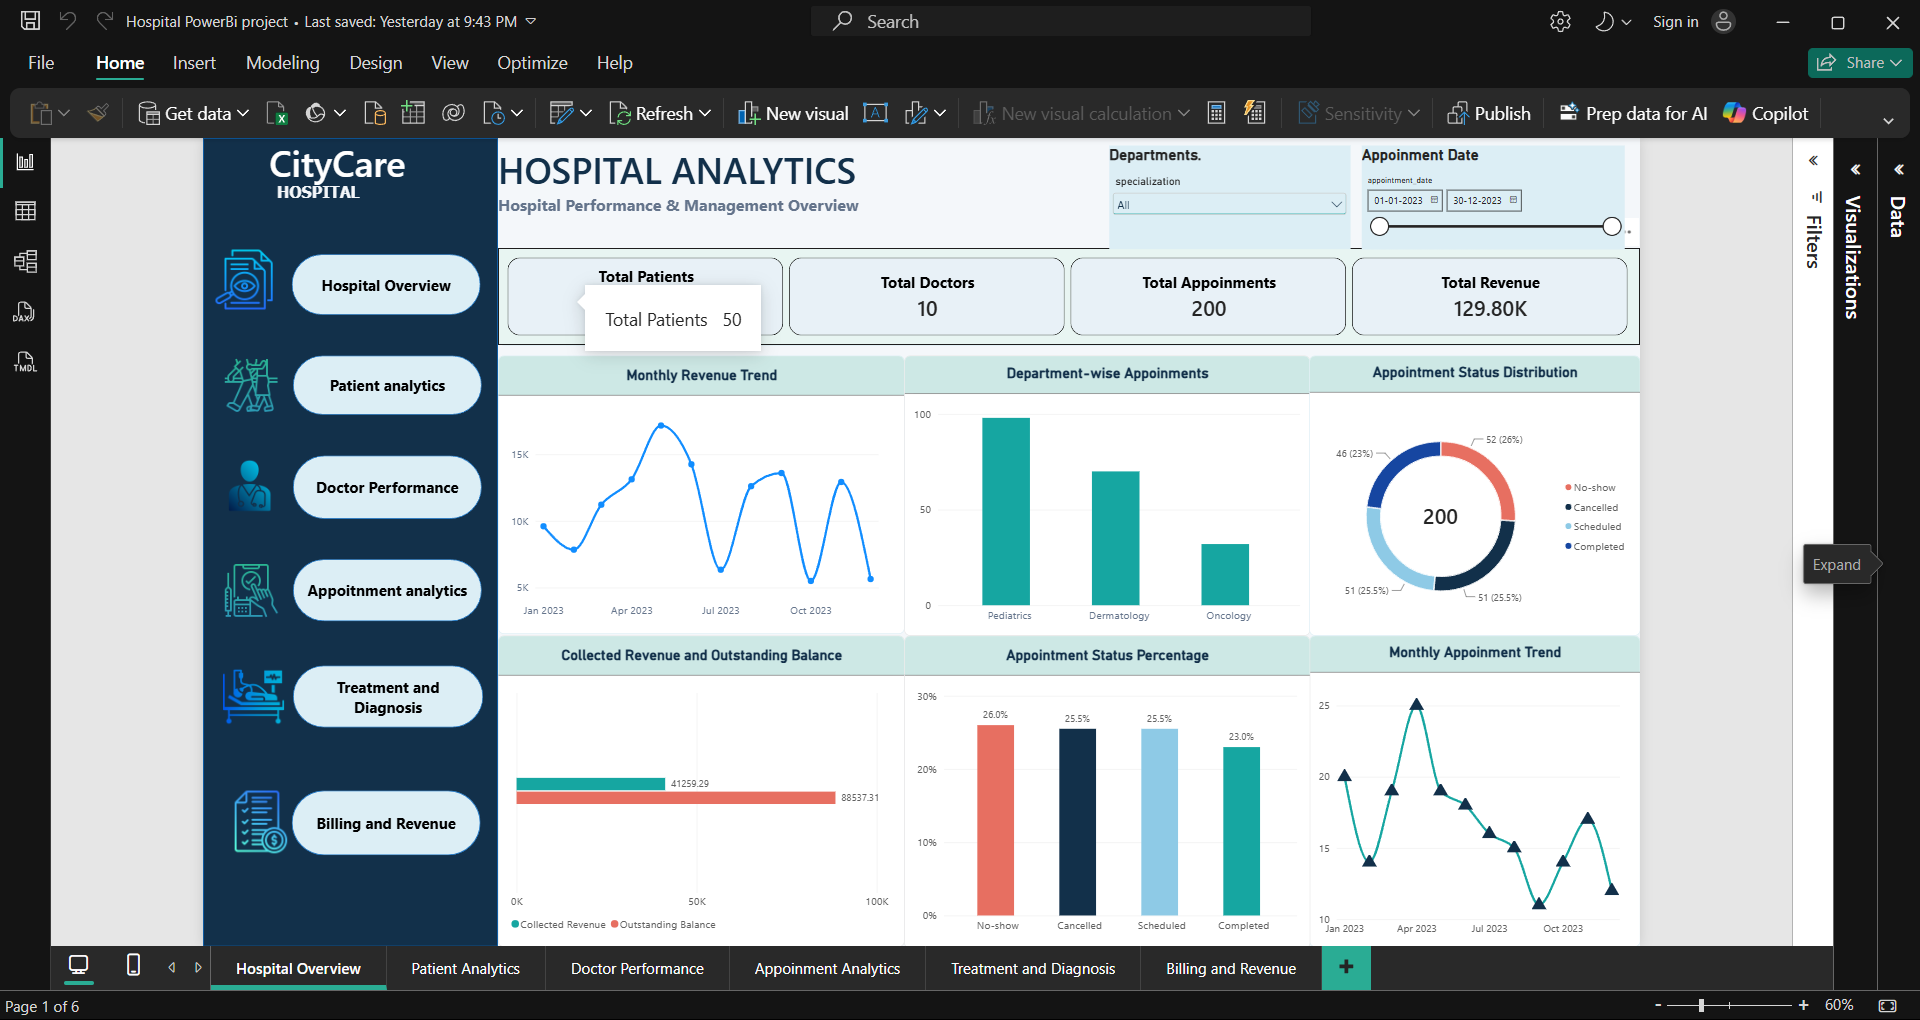

Layout of this report page (visuals, bound fields, positions):
{"tool":"powerbi","page":{"name":"Hospital Overview","canvas":[1920,1080],"ordinal":0},"visuals":[{"type":"shape","box":[0,0,394,1080],"z":0},{"type":"textbox","box":[14.3,0,328.6,91.8],"z":1000},{"type":"textbox","box":[393.9,9.2,802.5,119.6],"z":2000},{"type":"textbox","box":[79.6,59.2,263.3,32.7],"z":3000},{"type":"cardVisual","fields":{"Data":["patients.Total Patients","doctors.Total Doctors","appointments.Total Appoinments","appointments.Total Revenue"]},"box":[393.9,147.2,1525.8,130.7],"z":4000},{"type":"lineChart","title":"Monthly Revenue Trend","fields":{"Category":["billing.bill_date.Variation.Date Hierarchy.Year","billing.bill_date.Variation.Date Hierarchy.Month"],"Y":["billing.Total Billing"]},"box":[393.9,290.8,542.9,371.8],"z":5000},{"type":"clusteredColumnChart","title":"Department-wise Appoinments","fields":{"Category":["doctors.specialization"],"Y":["appointments.Total Appoinments"]},"box":[936,290,542,374],"z":6000},{"type":"donutChart","title":"Appointment Status Distribution","fields":{"Category":["appointments.status"],"Y":["CountNonNull(appointments.appointment_id)"]},"box":[1478,290,442,374],"z":7000},{"type":"lineChart","title":"Monthly Appoinment Trend","fields":{"Category":["appointments.appointment_date.Variation.Date Hierarchy.Year","appointments.appointment_date.Variation.Date Hierarchy.Month"],"Y":["appointments.Total Appoinments"]},"box":[1478,664,442,416],"z":8000},{"type":"slicer","title":"Appoinment Date","fields":{"Values":["appointments.appointment_date"]},"box":[1548,10,350,138],"z":9000},{"type":"slicer","title":"Departments.","fields":{"Values":["doctors.specialization"]},"box":[1210,10,322,138],"z":10000},{"type":"clusteredBarChart","fields":{"Y":["billing.Collected Revenue","billing.Outstanding Balance"]},"box":[393.9,664.4,542.9,416],"z":11000},{"type":"clusteredColumnChart","title":"Appointment Status Percentage","fields":{"Category":["appointments.status"],"Y":["appointments.Appointment Status %"]},"box":[936,664,542,418],"z":12000},{"type":"shape","box":[117.8,154.6,252.1,81],"z":13000},{"type":"shape","box":[119.6,290.8,252.1,79.1],"z":14000},{"type":"shape","box":[119.6,423.3,252.1,84.7],"z":15000},{"type":"shape","box":[119.6,563.2,252.1,82.8],"z":16000},{"type":"shape","box":[119.6,704.9,254,82.8],"z":17000},{"type":"shape","box":[117.8,872.4,252.1,86.5],"z":18000},{"type":"image","box":[11,149.1,86.5,81],"z":19000},{"type":"image","box":[26.5,289.8,75.5,79.6],"z":20000},{"type":"image","box":[26.5,422.4,71.4,83.7],"z":21000},{"type":"image","box":[26.5,563.3,75.5,83.7],"z":22000},{"type":"image","box":[26.5,704.1,81.6,83.7],"z":23000},{"type":"image","box":[32.7,871.4,87.8,83.7],"z":24000}]}

Visuals, with their boxes on the page's 1920x1080 design canvas (x1, y1, x2, y2). These are canvas units, not pixel positions in the 1920x1020 screenshot, which may show the page scaled, cropped or inside an application window:
shape: [x1=0, y1=0, x2=394, y2=1080]
textbox: [x1=14, y1=0, x2=343, y2=92]
textbox: [x1=394, y1=9, x2=1196, y2=129]
textbox: [x1=80, y1=59, x2=343, y2=92]
cardVisual - patients.Total Patients x doctors.Total Doctors: [x1=394, y1=147, x2=1920, y2=278]
"Monthly Revenue Trend" lineChart: [x1=394, y1=291, x2=937, y2=663]
"Department-wise Appoinments" clusteredColumnChart: [x1=936, y1=290, x2=1478, y2=664]
"Appointment Status Distribution" donutChart: [x1=1478, y1=290, x2=1920, y2=664]
"Monthly Appoinment Trend" lineChart: [x1=1478, y1=664, x2=1920, y2=1080]
"Appoinment Date" slicer: [x1=1548, y1=10, x2=1898, y2=148]
"Departments." slicer: [x1=1210, y1=10, x2=1532, y2=148]
clusteredBarChart - billing.Collected Revenue x billing.Outstanding Balance: [x1=394, y1=664, x2=937, y2=1080]
"Appointment Status Percentage" clusteredColumnChart: [x1=936, y1=664, x2=1478, y2=1082]
shape: [x1=118, y1=155, x2=370, y2=236]
shape: [x1=120, y1=291, x2=372, y2=370]
shape: [x1=120, y1=423, x2=372, y2=508]
shape: [x1=120, y1=563, x2=372, y2=646]
shape: [x1=120, y1=705, x2=374, y2=788]
shape: [x1=118, y1=872, x2=370, y2=959]
image: [x1=11, y1=149, x2=98, y2=230]
image: [x1=26, y1=290, x2=102, y2=369]
image: [x1=26, y1=422, x2=98, y2=506]
image: [x1=26, y1=563, x2=102, y2=647]
image: [x1=26, y1=704, x2=108, y2=788]
image: [x1=33, y1=871, x2=120, y2=955]
